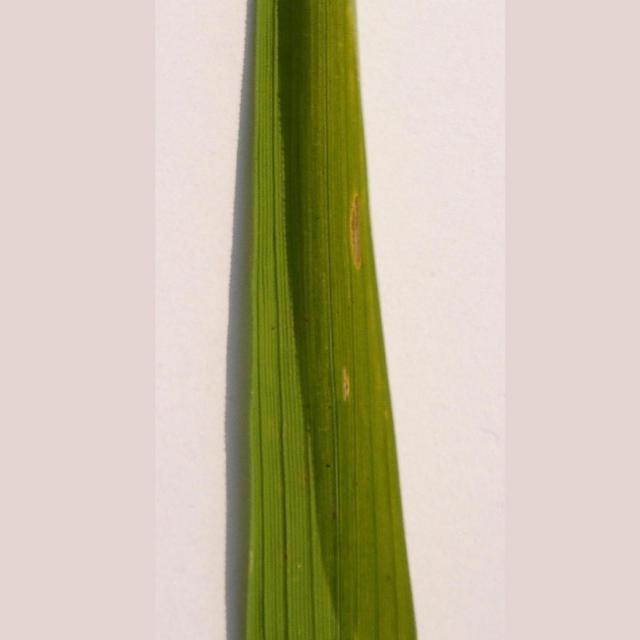leaf blight: (342, 183, 380, 276), (331, 357, 380, 405)
